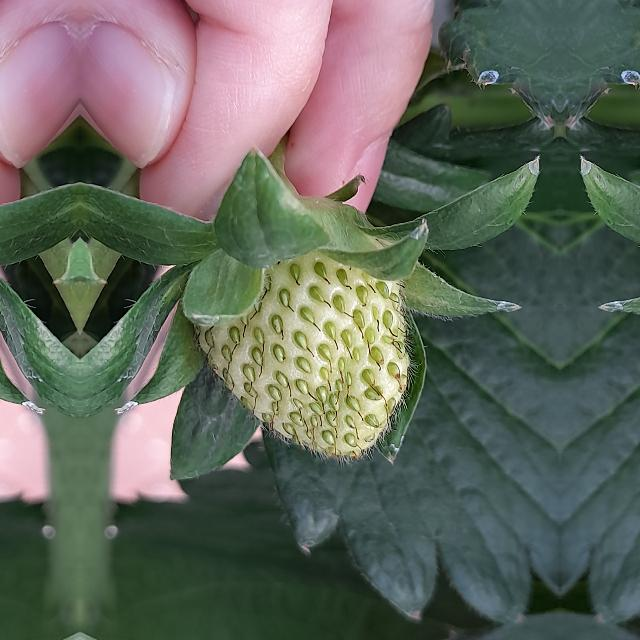Health_25: (192, 245, 422, 468)
